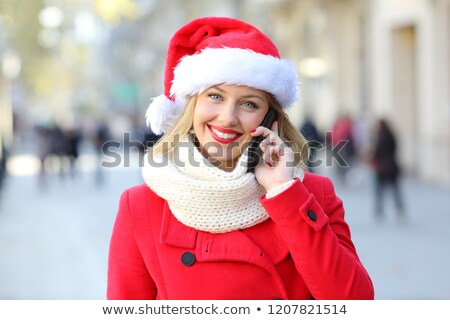phone: (247, 103, 287, 172)
talk: (195, 85, 298, 185)
